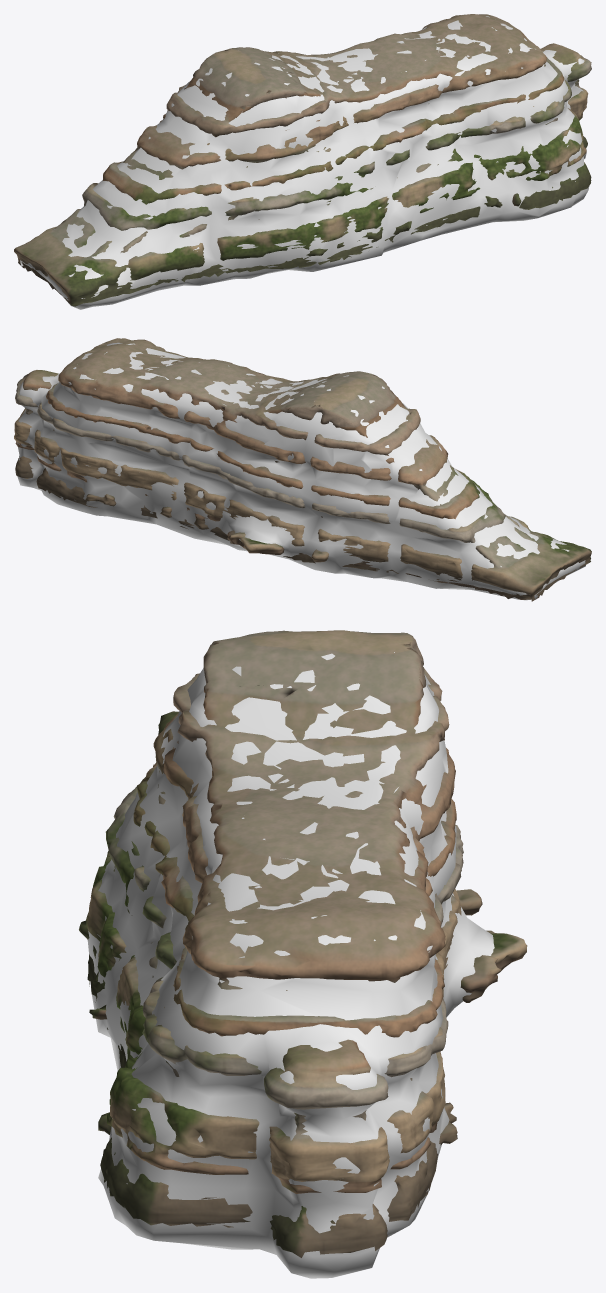
The model's file is LM_RockRidge.fbx.
The picture shows the model from 3 angles, top to bottom: view 1: azimuth 30°, elevation 25°; view 2: azimuth 150°, elevation 25°; view 3: azimuth 270°, elevation 25°; orthographic projection. The views are drawn at different scales.
Parts seen in each view (by area): view 1: LM_RockRidge_COL, LM_RockRidge_LOD0; view 2: LM_RockRidge_COL, LM_RockRidge_LOD0; view 3: LM_RockRidge_LOD0, LM_RockRidge_COL.
Part boxes in pixels (left/top/right/bottom): LM_RockRidge_COL: left=20, top=15, right=589, bottom=309; LM_RockRidge_LOD0: left=14, top=14, right=591, bottom=306; LM_RockRidge_COL: left=17, top=342, right=585, bottom=600; LM_RockRidge_LOD0: left=14, top=338, right=591, bottom=601; LM_RockRidge_LOD0: left=79, top=630, right=527, bottom=1257; LM_RockRidge_COL: left=87, top=652, right=495, bottom=1278.
Size of what is drawn, in the model's own units: 57 by 17.3 by 20.73.
